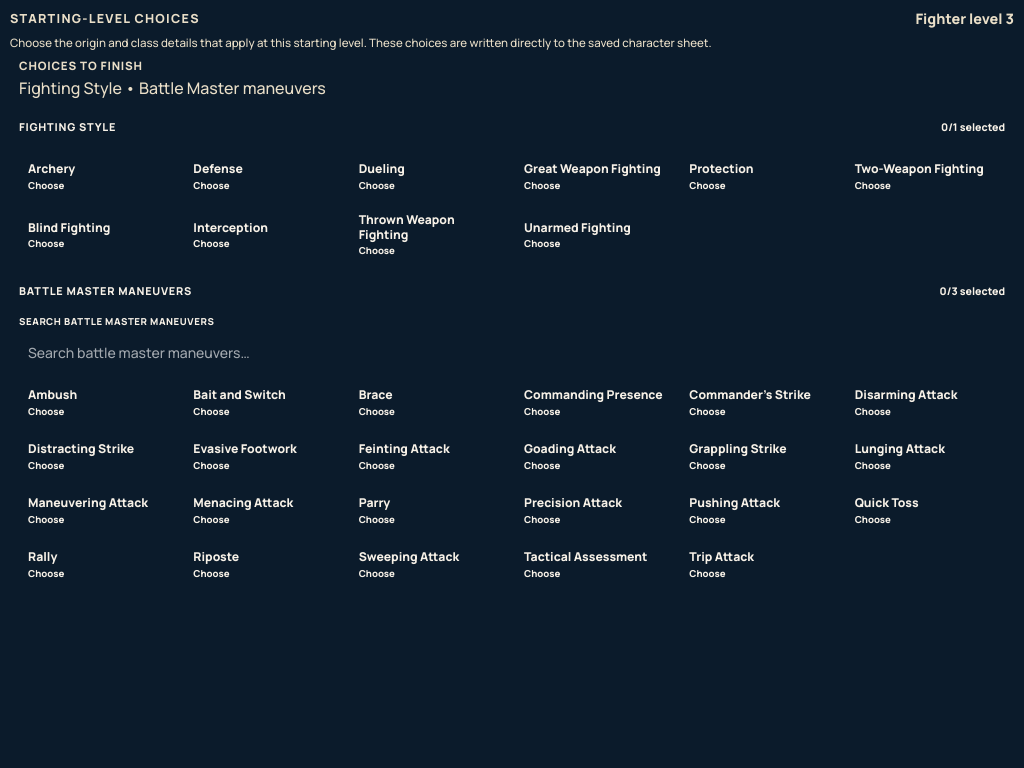
starting level choice cards › long class choice lists can be searched
Type "Riposte" into the search field labelled "Search battle master maneuvers".
click(512, 353); type("Riposte")  # box top-left (19, 334), bottom-right (1005, 372)
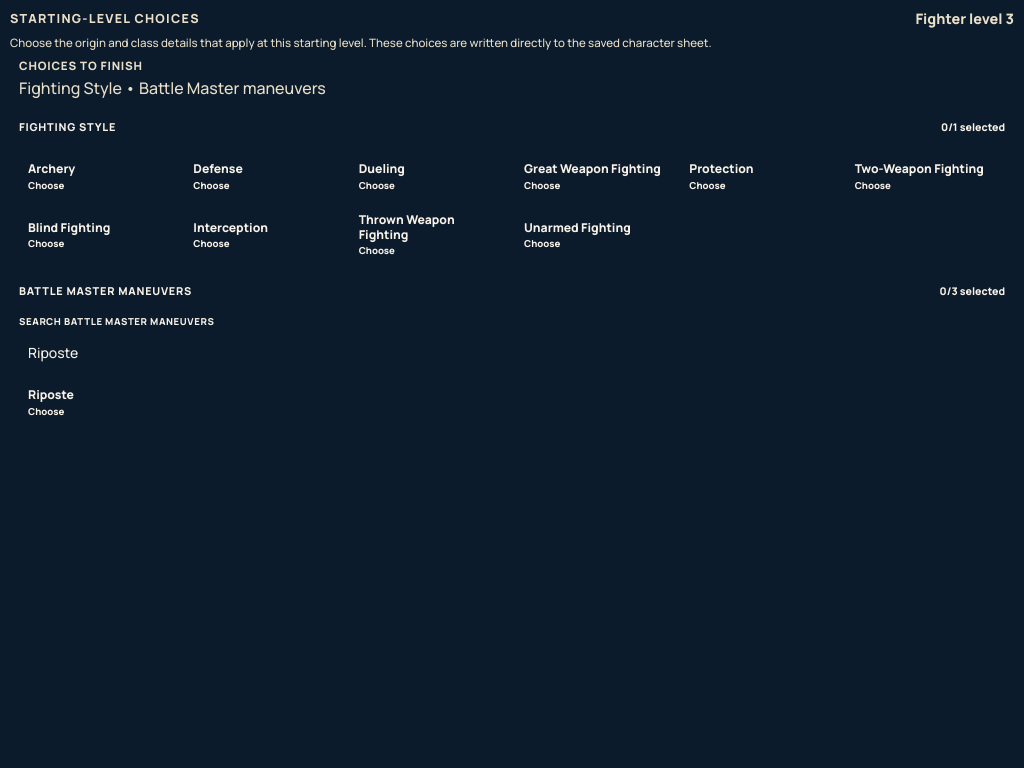
expect the button "Riposte Choose" is shown: met, box top-left (19, 379), bottom-right (1005, 427)
expect the button "Trip Attack Choose" is gone: met
